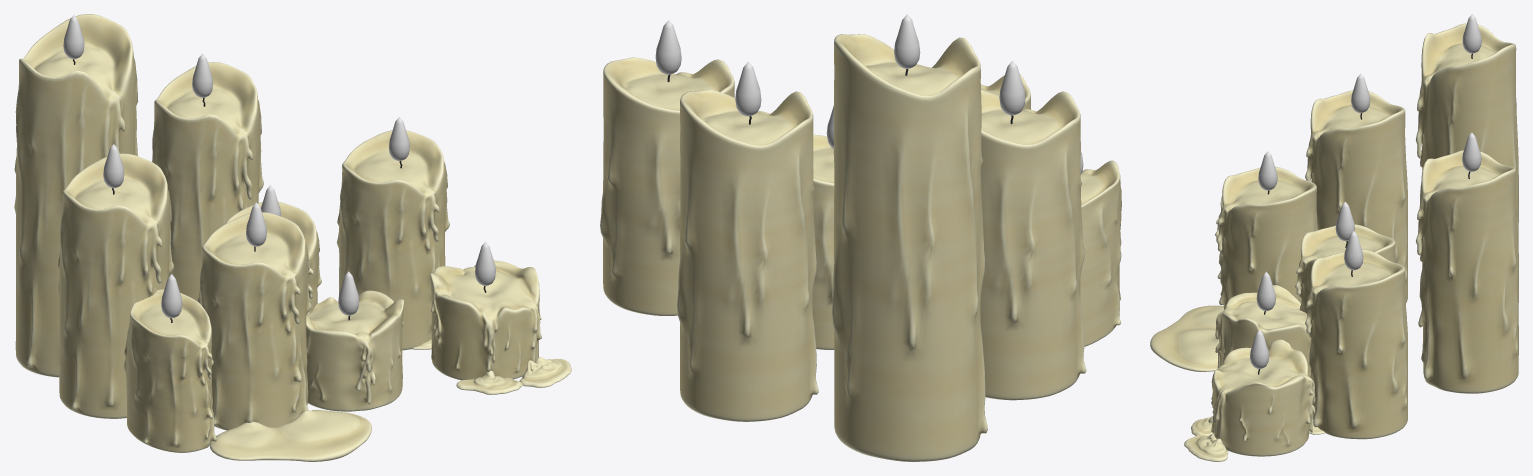
Rendered from candles.glb.
3 views of the same model, side by side, from view 1: azimuth 30°, elevation 25°; view 2: azimuth 150°, elevation 25°; view 3: azimuth 270°, elevation 25° (orthographic). The views are drawn at different scales.
Visible parts, largest first — view 1: Candle_large_big_used_low.001_Used_candles_0.006, Candle_large_big_used_low.001_Used_candles_0.004, Candle_large_big_used_low.001, Candle_large_big_used_low.001_Used_candles_0.002, Candle_large_big_used_low.001_Used_candles_0.005, Candle_large_big_used_low.001_Used_candles_0.001, Candle_large_small_used_low.001, Candle_large_small_used_low.002, Big_Wax_leak_low.001, Wax_large_small_3_low.001, Candle_large_big_used_low.001_Used_candles_0.003, Flame1 (+7 smaller); view 2: Candle_large_big_used_low.001_Used_candles_0.006, Candle_large_big_used_low.001_Used_candles_0.005, Candle_large_big_used_low.001_Used_candles_0.004, Candle_large_big_used_low.001_Used_candles_0.002, Candle_large_big_used_low.001_Used_candles_0.001, Candle_large_big_used_low.001_Used_candles_0.003, Flame5, Flame7, Flame2, Flame8; view 3: Candle_large_big_used_low.001_Used_candles_0.005, Candle_large_big_used_low.001_Used_candles_0.002, Candle_large_big_used_low.001_Used_candles_0.004, Candle_large_big_used_low.001_Used_candles_0.006, Candle_large_big_used_low.001, Candle_large_small_used_low.001, Candle_large_small_used_low.002, Big_Wax_leak_low.001, Candle_large_big_used_low.001_Used_candles_0.003, Wax_large_small_3_low.001, Flame8, Flame2 (+6 smaller).
Part boxes in pixels (x1,y1,x2,y2): Candle_large_big_used_low.001_Used_candles_0.006: (14, 14, 138, 377); Candle_large_big_used_low.001_Used_candles_0.004: (57, 153, 173, 418); Candle_large_big_used_low.001: (197, 212, 311, 430); Candle_large_big_used_low.001_Used_candles_0.002: (336, 130, 449, 350); Candle_large_big_used_low.001_Used_candles_0.005: (152, 62, 263, 301); Candle_large_big_used_low.001_Used_candles_0.001: (123, 289, 216, 452); Candle_large_small_used_low.001: (430, 260, 541, 380); Candle_large_small_used_low.002: (306, 290, 403, 411); Big_Wax_leak_low.001: (209, 409, 371, 461); Wax_large_small_3_low.001: (456, 357, 571, 394); Candle_large_big_used_low.001_Used_candles_0.003: (225, 201, 321, 315); Flame1: (338, 271, 359, 315); Candle_large_big_used_low.001_Used_candles_0.006: (832, 34, 987, 461); Candle_large_big_used_low.001_Used_candles_0.005: (677, 89, 818, 421); Candle_large_big_used_low.001_Used_candles_0.004: (980, 90, 1086, 400); Candle_large_big_used_low.001_Used_candles_0.002: (600, 57, 734, 315); Candle_large_big_used_low.001_Used_candles_0.001: (1080, 160, 1121, 346); Candle_large_big_used_low.001_Used_candles_0.003: (813, 134, 834, 349); Flame5: (735, 61, 761, 116); Flame7: (999, 61, 1025, 115); Flame2: (655, 20, 681, 74); Flame8: (894, 14, 920, 68); Candle_large_big_used_low.001_Used_candles_0.005: (1415, 150, 1518, 393); Candle_large_big_used_low.001_Used_candles_0.002: (1305, 249, 1407, 439); Candle_large_big_used_low.001_Used_candles_0.004: (1305, 90, 1407, 302); Candle_large_big_used_low.001_Used_candles_0.006: (1416, 23, 1518, 266); Candle_large_big_used_low.001: (1216, 167, 1317, 309); Candle_large_small_used_low.001: (1211, 339, 1315, 456); Candle_large_small_used_low.002: (1215, 285, 1311, 377); Big_Wax_leak_low.001: (1150, 305, 1223, 371); Candle_large_big_used_low.001_Used_candles_0.003: (1295, 224, 1395, 313); Wax_large_small_3_low.001: (1184, 416, 1228, 461); Flame8: (1462, 14, 1481, 53); Flame2: (1344, 231, 1363, 270).
Bounding box in the file's own units: 29.97 × 23 × 25.21.
15 materials, 15 textured.
